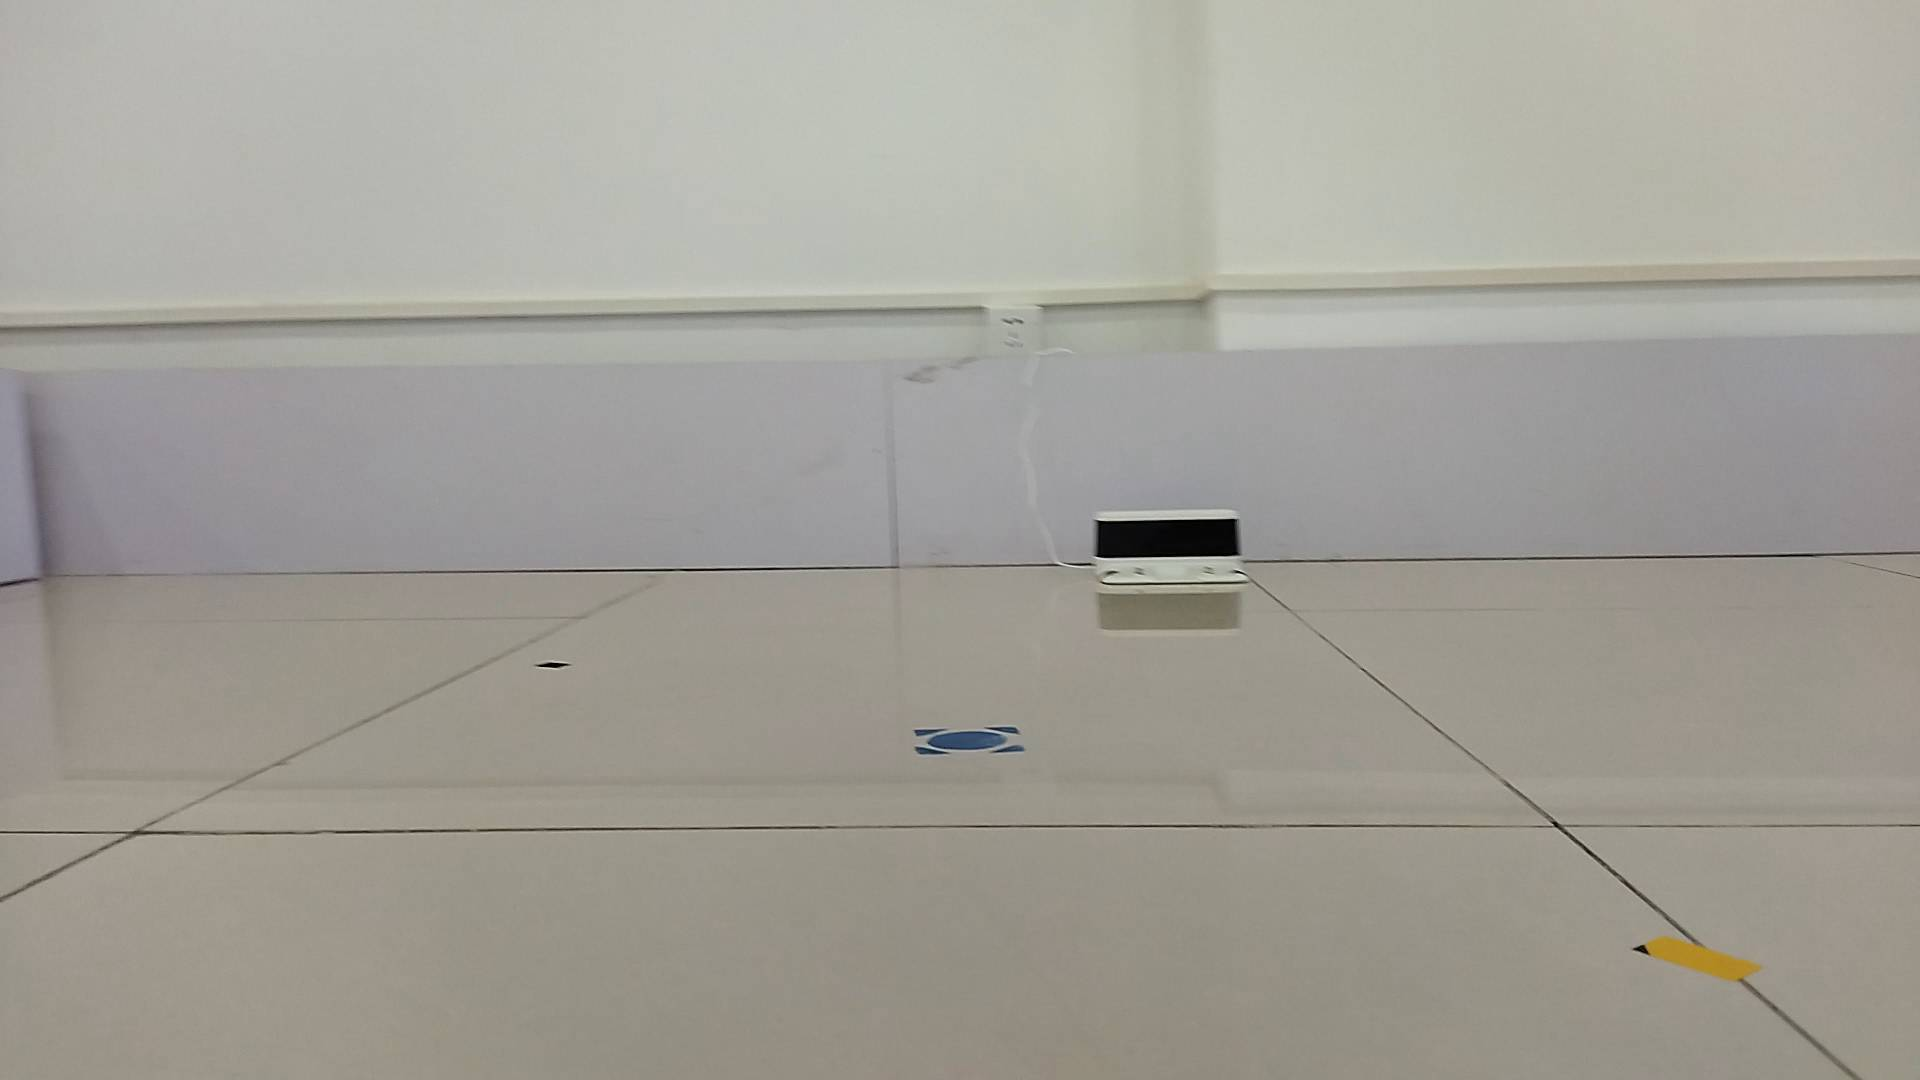recharge seat: (1093, 506, 1255, 588)
